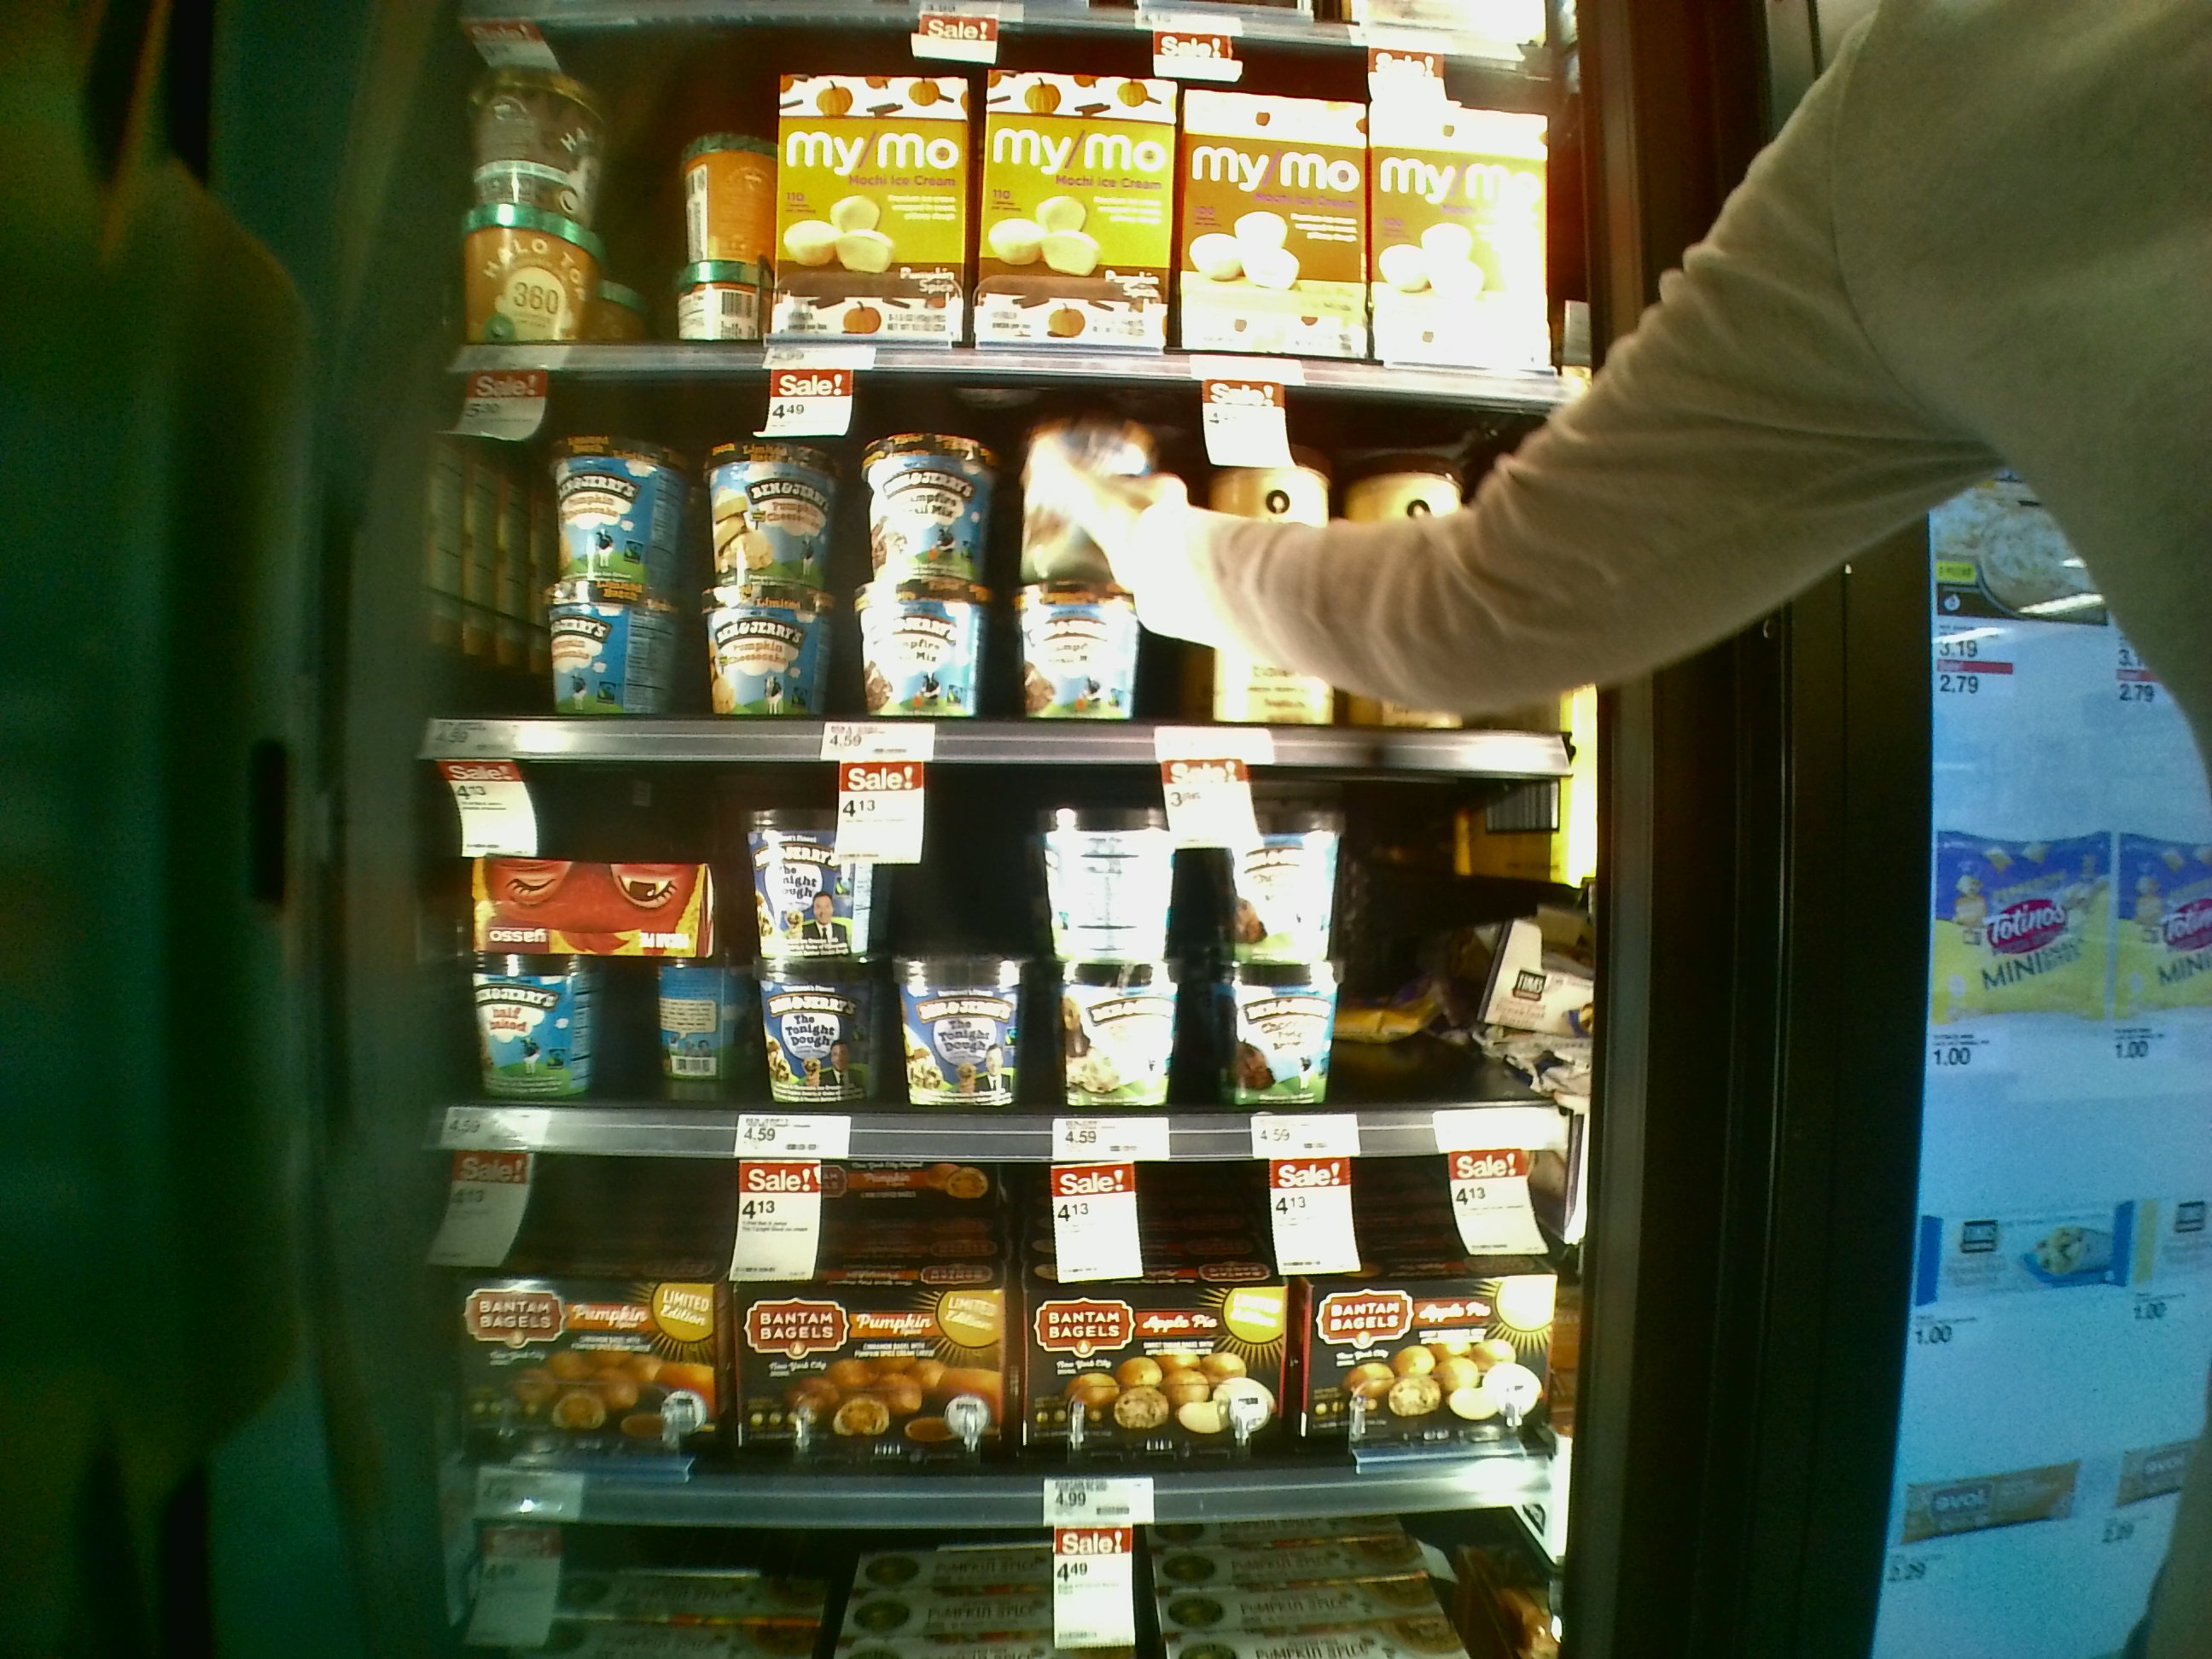shelf: (387, 732, 1608, 1138), (399, 1112, 1604, 1511), (462, 2, 1581, 406)
